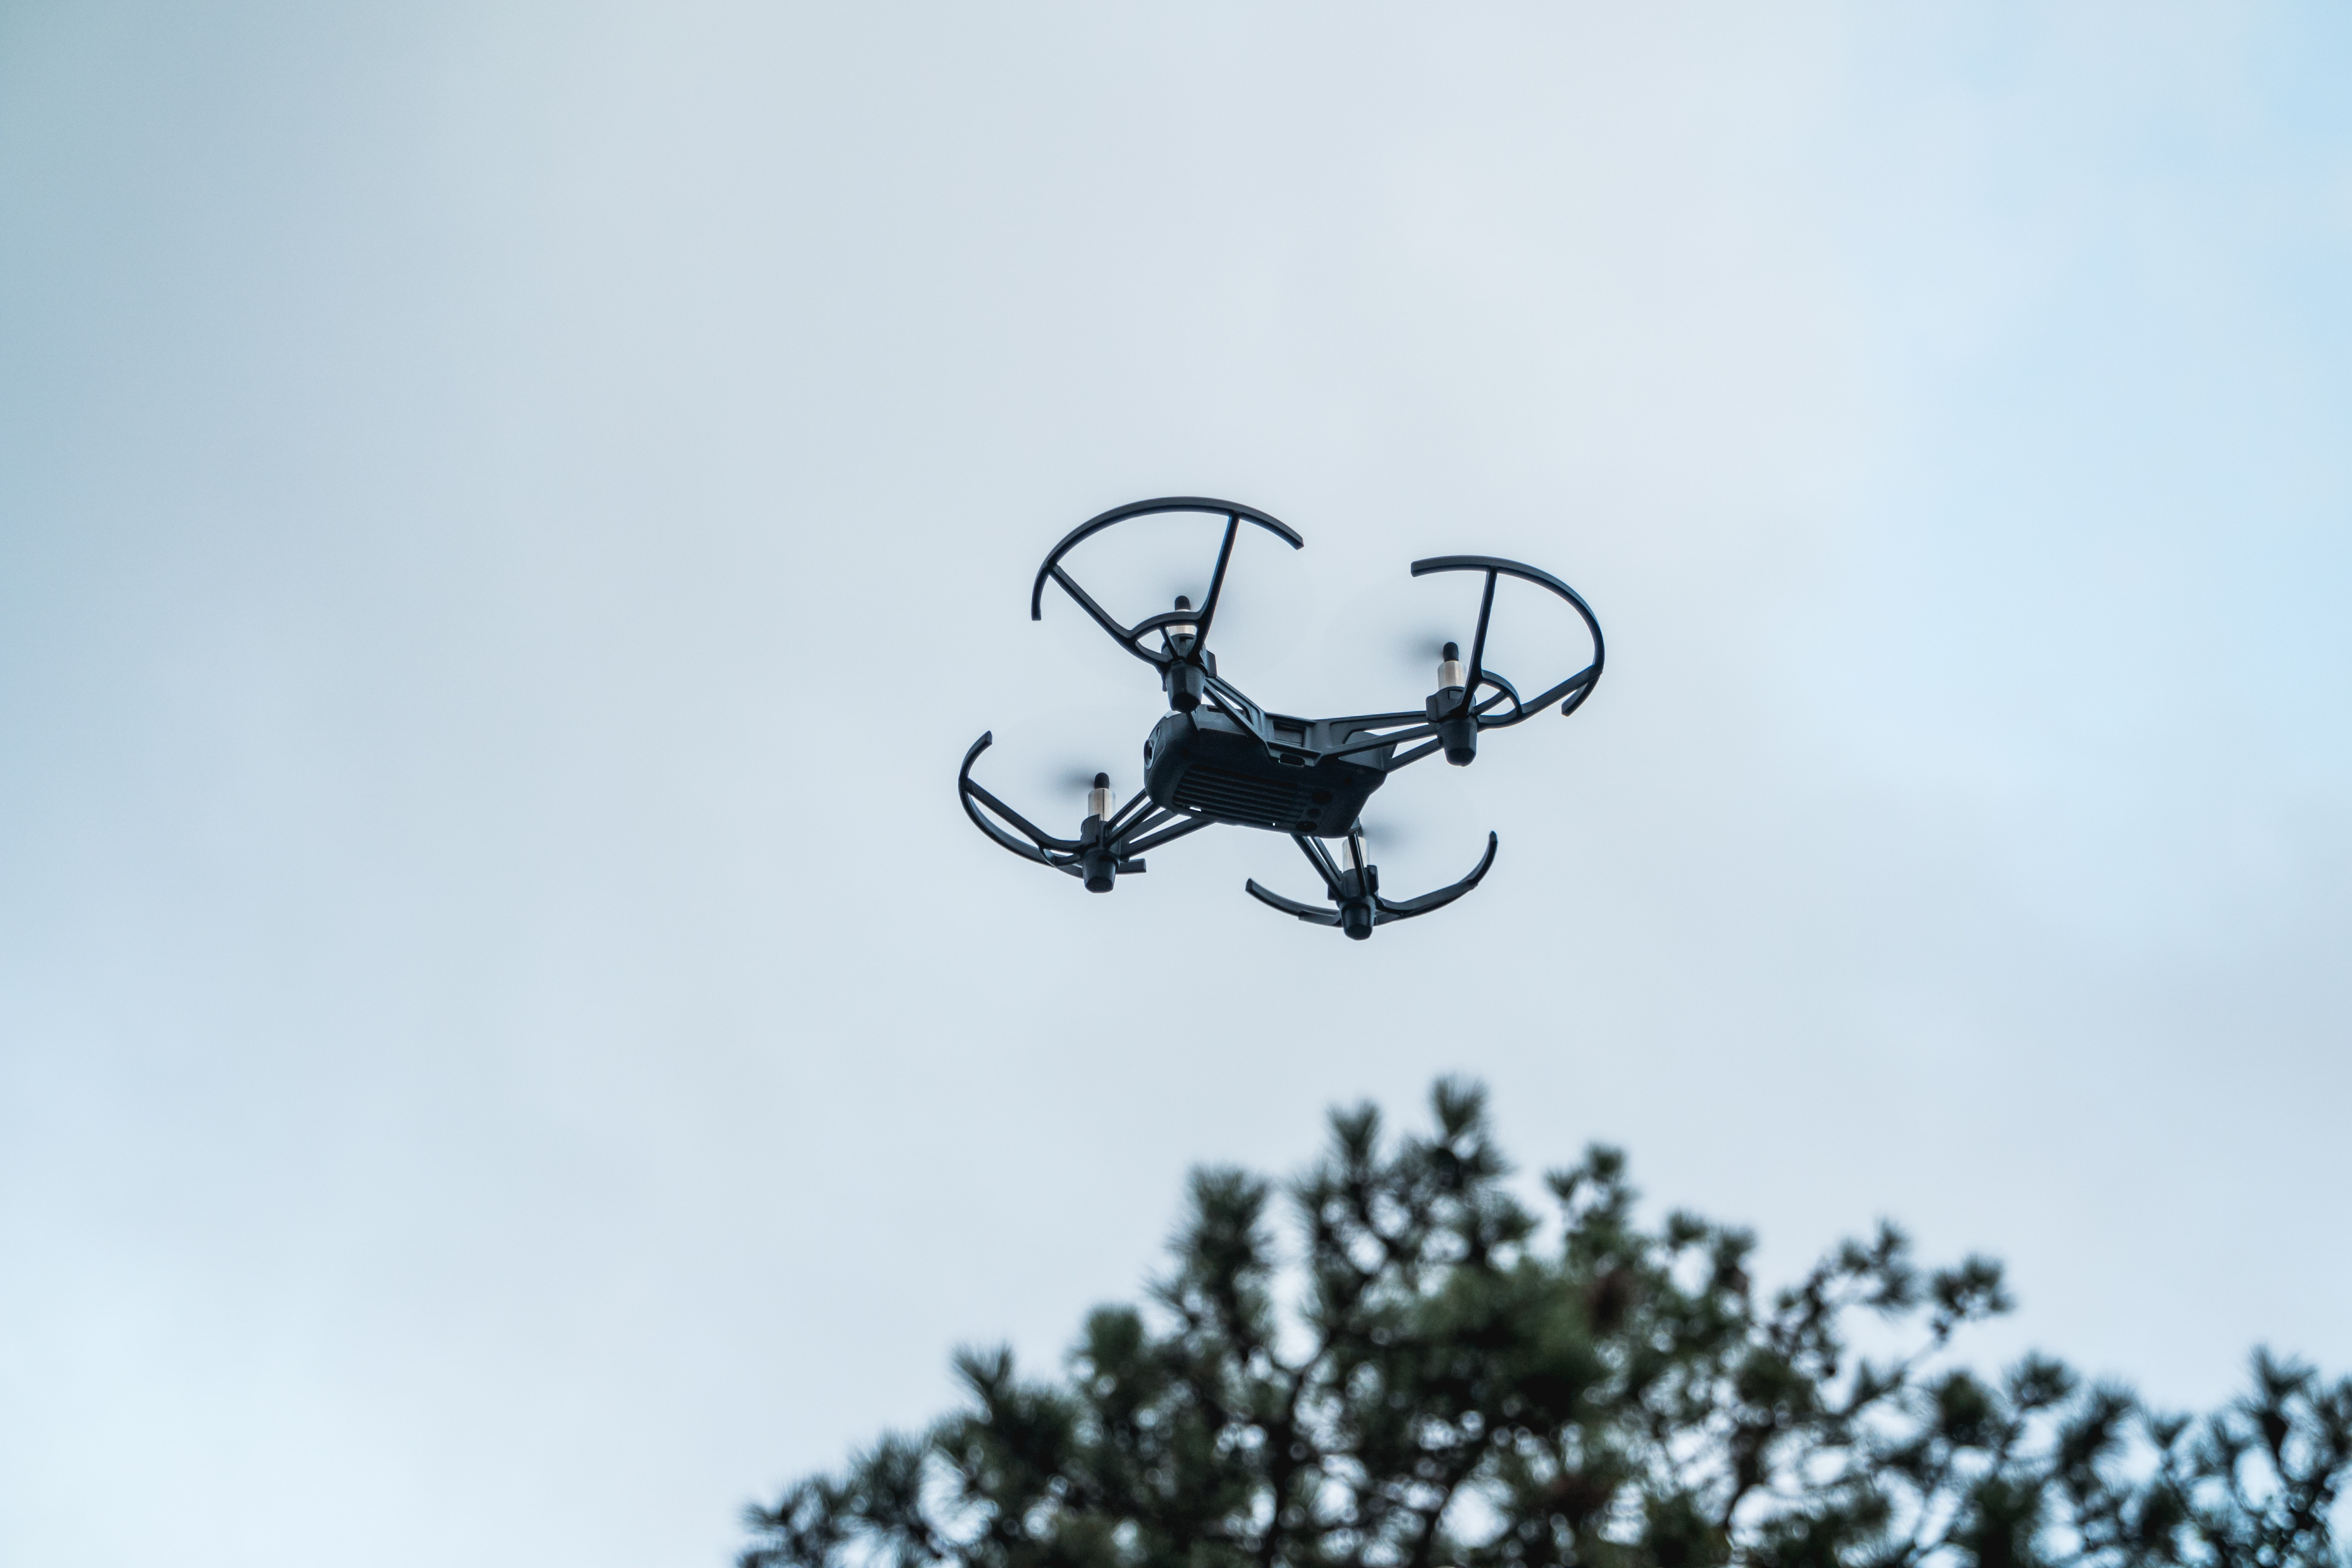drone: (852, 392, 1739, 989)
